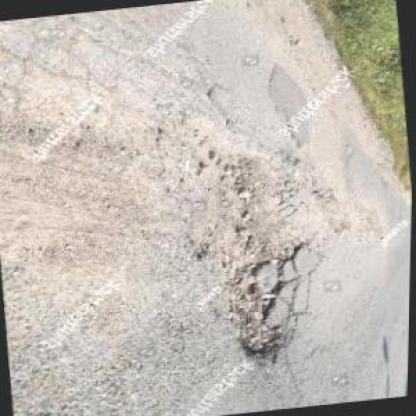pothole: (221, 242, 322, 367)
